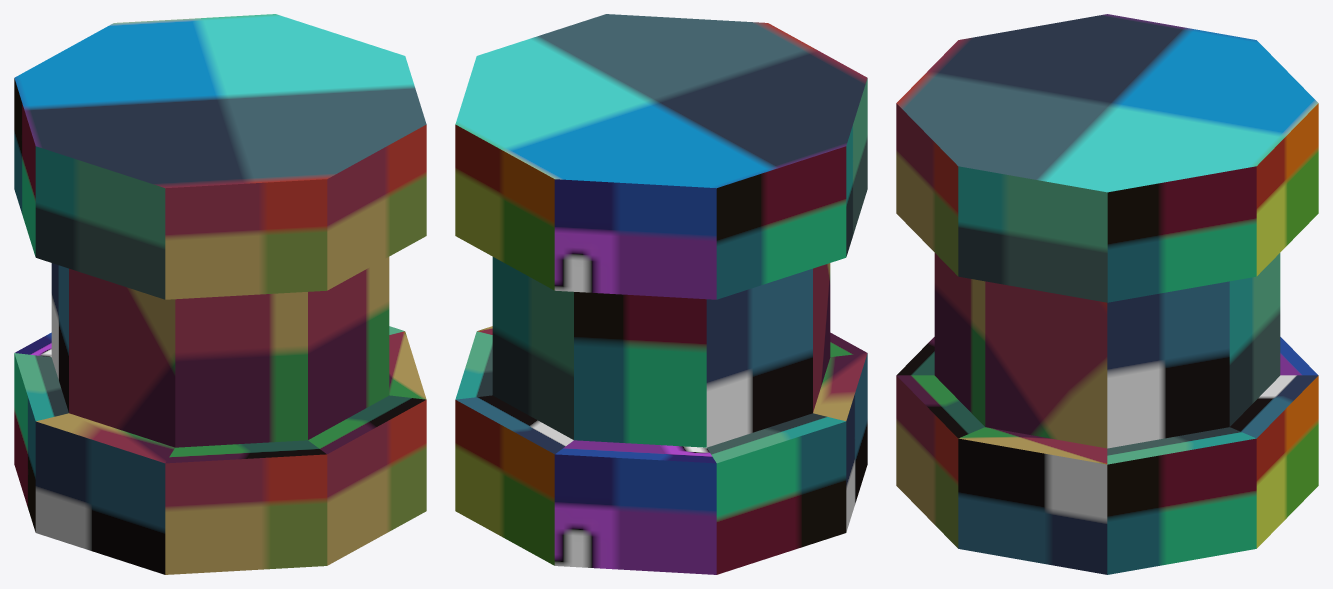
File: pillar01.fbx
The picture shows the model from 3 angles, left to right: view 1: azimuth 30°, elevation 25°; view 2: azimuth 150°, elevation 25°; view 3: azimuth 270°, elevation 25°; orthographic projection.
Visible parts, largest first — view 1: pillar01; view 2: pillar01; view 3: pillar01.
Boxes of the visible parts, x1,y1,x2,y2 form: pillar01: [14, 14, 426, 574]; pillar01: [455, 14, 867, 574]; pillar01: [896, 14, 1318, 574].
Bounding box in the file's own units: 100 × 100 × 100.
Materials: 1 (1 with a texture image).
